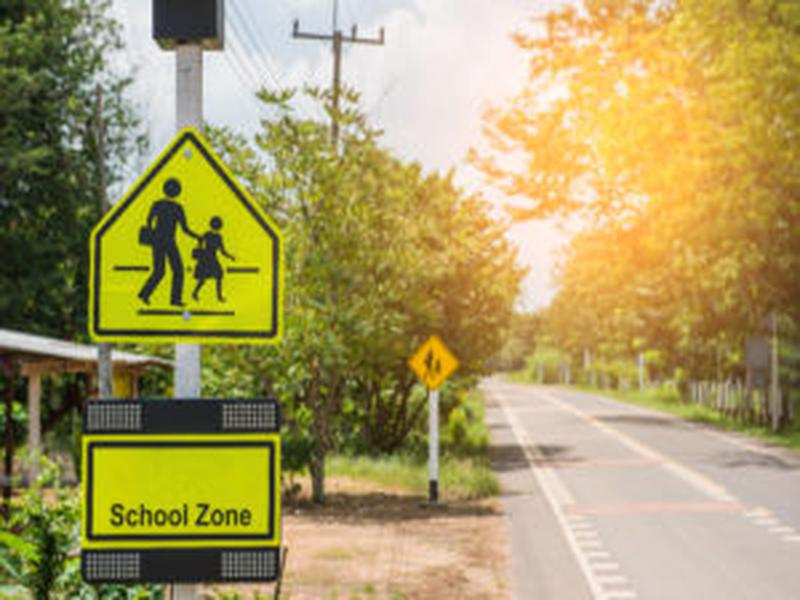slow: (73, 129, 286, 350)
